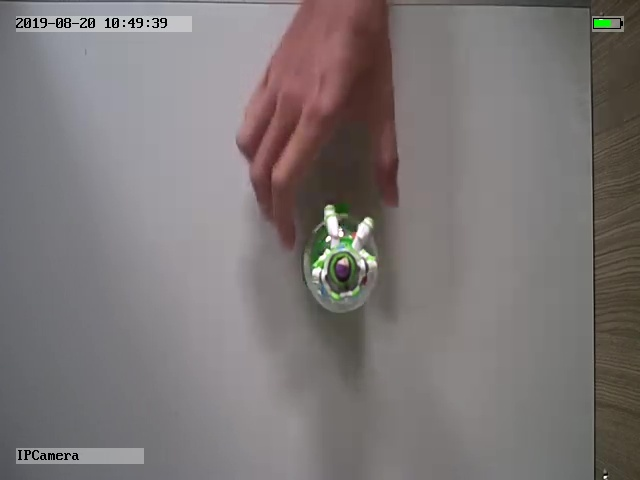buzz: (302, 202, 383, 318)
